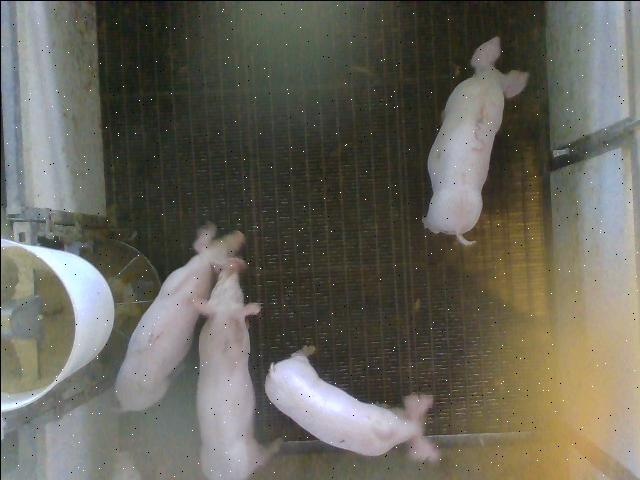pig-3: (421, 36, 528, 244)
